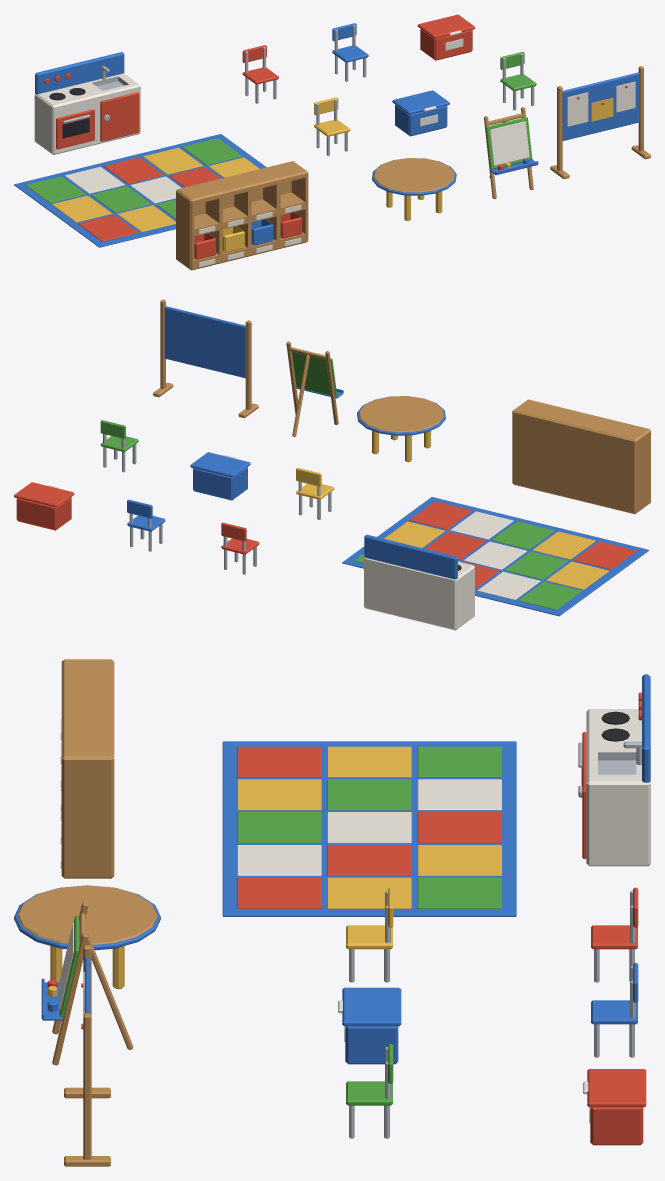
File: kindergarten-classroom-set.glb
3 views of the same model, one above another, from view 1: azimuth 30°, elevation 25°; view 2: azimuth 150°, elevation 25°; view 3: azimuth 270°, elevation 25° (orthographic). The views are drawn at different scales.
Parts seen in each view (by area): view 1: CubbyShelf_Body, ToyKitchen_Body, ReadingRug_Base, NoticeBoard_Board, Table_Top, ToyKitchen_Backsplash, CupboardDoor, Easel_Paper, BlockBin_Red_Tub, BlockBin_Blue_Tub, ReadingRug_Square1, ReadingRug_Square11 (+29 smaller); view 2: CubbyShelf_Body, ToyKitchen_Body, NoticeBoard_Board, ReadingRug_Base, Table_Top, ToyKitchen_Backsplash, BlockBin_Red_Tub, BlockBin_Blue_Tub, Easel_Board, ReadingRug_Square3, ReadingRug_Square4, ReadingRug_Square5 (+13 smaller); view 3: ReadingRug_Base, CubbyShelf_Body, ToyKitchen_Body, Table_Top, ReadingRug_Square2, ReadingRug_Square7, ReadingRug_Square11, ReadingRug_Square13, ReadingRug_Square1, ReadingRug_Square3, ReadingRug_Square5, ReadingRug_Square6 (+20 smaller).
Part boxes in pixels (left/top/right/bottom): CubbyShelf_Body: left=176, top=161, right=308, bottom=270; ToyKitchen_Body: left=34, top=73, right=140, bottom=154; ReadingRug_Base: left=14, top=134, right=266, bottom=247; NoticeBoard_Board: left=562, top=72, right=639, bottom=140; Table_Top: left=373, top=158, right=454, bottom=192; ToyKitchen_Backsplash: left=35, top=52, right=124, bottom=94; CupboardDoor: left=100, top=92, right=139, bottom=141; Easel_Paper: left=490, top=121, right=529, bottom=165; BlockBin_Red_Tub: left=420, top=29, right=472, bottom=60; BlockBin_Blue_Tub: left=395, top=105, right=447, bottom=136; ReadingRug_Square1: left=78, top=214, right=138, bottom=241; ReadingRug_Square11: left=25, top=176, right=85, bottom=203; CubbyShelf_Body: left=512, top=399, right=650, bottom=514; ToyKitchen_Body: left=364, top=557, right=474, bottom=630; NoticeBoard_Board: left=164, top=306, right=245, bottom=378; ReadingRug_Base: left=342, top=497, right=648, bottom=616; Table_Top: left=359, top=396, right=443, bottom=432; ToyKitchen_Backsplash: left=364, top=534, right=457, bottom=579; BlockBin_Red_Tub: left=16, top=497, right=71, bottom=530; BlockBin_Blue_Tub: left=193, top=467, right=247, bottom=500; Easel_Board: left=292, top=351, right=337, bottom=396; ReadingRug_Square3: left=491, top=521, right=554, bottom=549; ReadingRug_Square4: left=450, top=511, right=513, bottom=539; ReadingRug_Square5: left=409, top=501, right=472, bottom=529; ReadingRug_Base: left=222, top=741, right=516, bottom=916; CubbyShelf_Body: left=61, top=659, right=114, bottom=878; ToyKitchen_Body: left=586, top=709, right=650, bottom=866; Table_Top: left=17, top=885, right=157, bottom=944; ReadingRug_Square2: left=237, top=779, right=321, bottom=810; ReadingRug_Square7: left=327, top=779, right=411, bottom=810; ReadingRug_Square11: left=417, top=746, right=501, bottom=777; ReadingRug_Square13: left=417, top=812, right=501, bottom=843; ReadingRug_Square1: left=237, top=746, right=321, bottom=777; ReadingRug_Square3: left=237, top=812, right=321, bottom=843; ReadingRug_Square5: left=237, top=877, right=321, bottom=908; ReadingRug_Square6: left=327, top=746, right=411, bottom=777.
Bounding box in the file's own units: 34.15 × 5.64 × 21.67.
